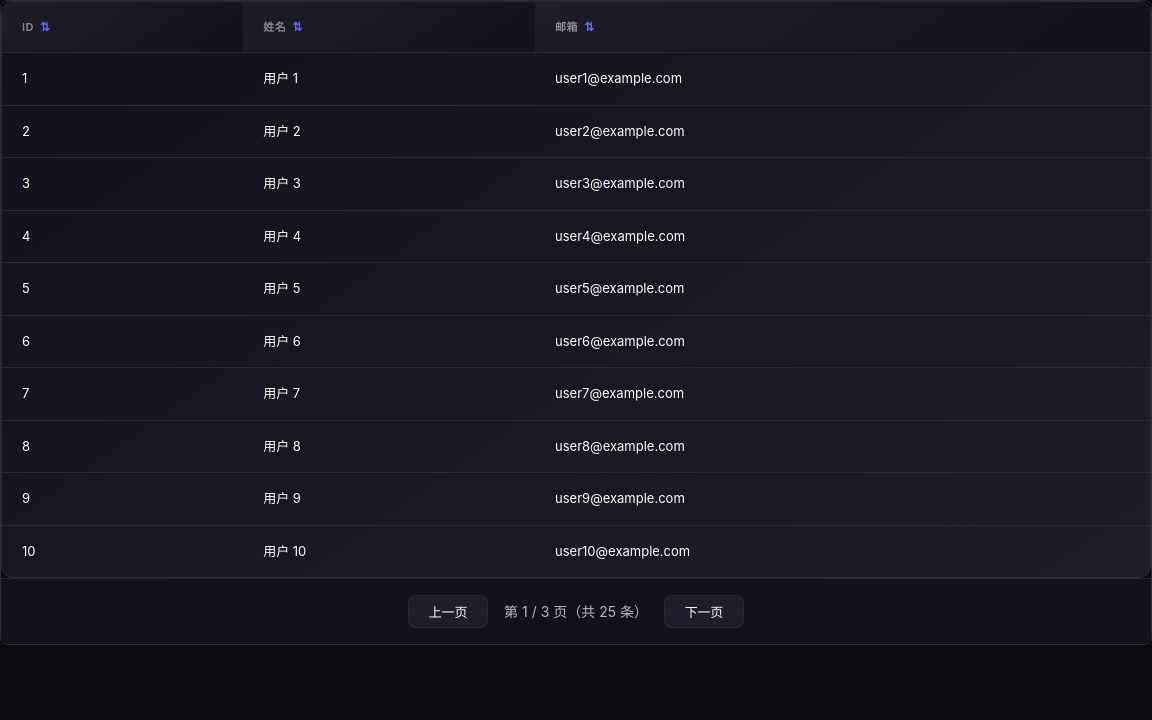
DataTable › 分页功能 › 下一页按钮应该切换到下一页
The image size is (1152, 720).
Expected: the text "第 1 / 3 页（共 25 条）" is shown, 504,601 -> 648,622
Expected: the text "用户 1" is shown, 243,52 -> 535,105
Click the button "下一页" at point(704, 612), box 664,595 -> 744,628
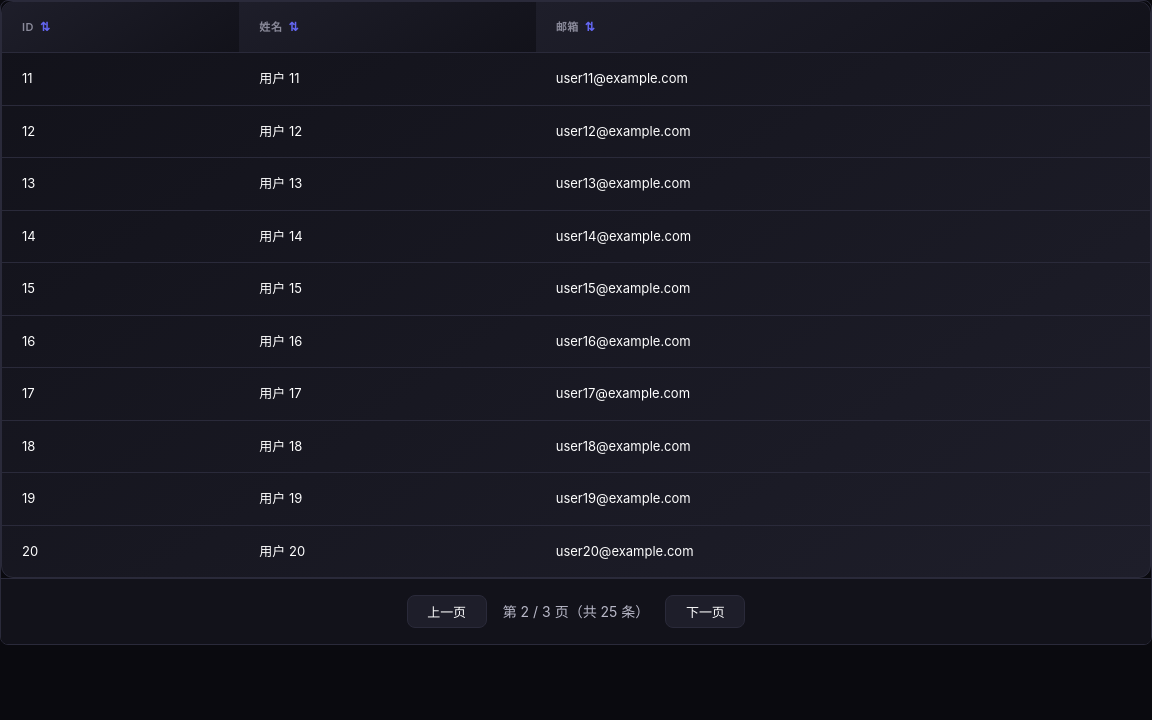
Expected: the text "第 2 / 3 页（共 25 条）" is shown, 503,601 -> 649,622
Expected: the text "用户 11" is shown, 239,52 -> 536,105
